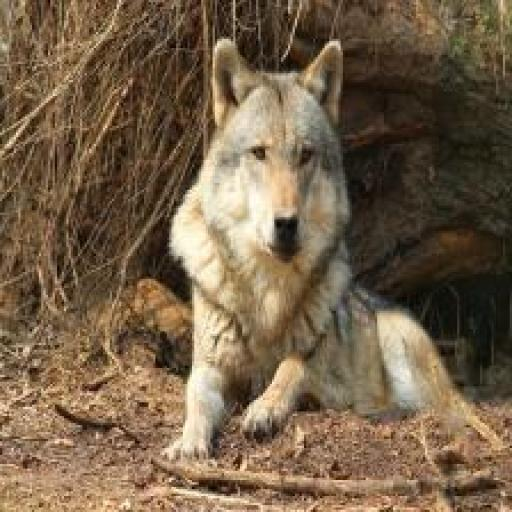wolf: (160, 37, 466, 465)
